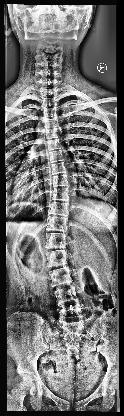Vertebrae: (48, 267, 74, 287), (53, 286, 79, 306), (57, 305, 88, 321), (46, 232, 68, 250), (46, 250, 68, 268), (46, 216, 70, 232), (49, 200, 71, 216), (52, 174, 70, 188), (46, 138, 62, 152), (49, 150, 65, 164), (52, 188, 70, 200), (44, 117, 60, 129), (51, 162, 67, 174), (44, 106, 58, 118), (46, 128, 60, 140), (42, 98, 58, 106)
